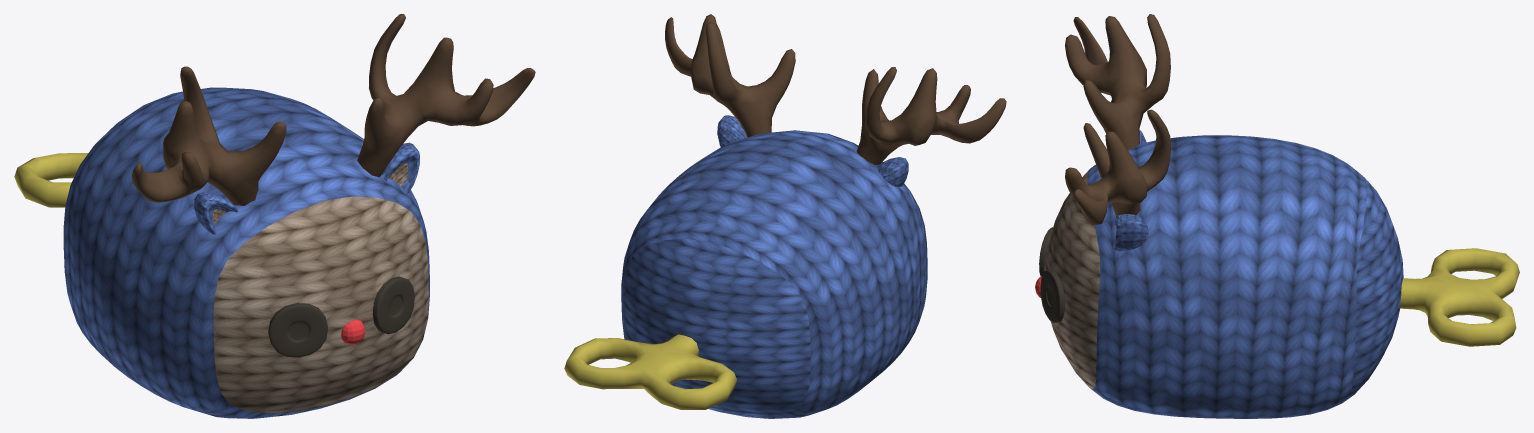
The model's file is deer.fbx.
3 views of the same model, side by side, from view 1: azimuth 30°, elevation 25°; view 2: azimuth 150°, elevation 25°; view 3: azimuth 270°, elevation 25° (orthographic). The views are drawn at different scales.
Parts seen in each view (by area): view 1: deer; view 2: deer; view 3: deer.
Boxes of the visible parts, x1,y1,x2,y2 form: deer: [14, 14, 535, 418]; deer: [564, 14, 1006, 418]; deer: [1035, 14, 1519, 418].
Size of the model in its own units: 815 by 708 by 946.
